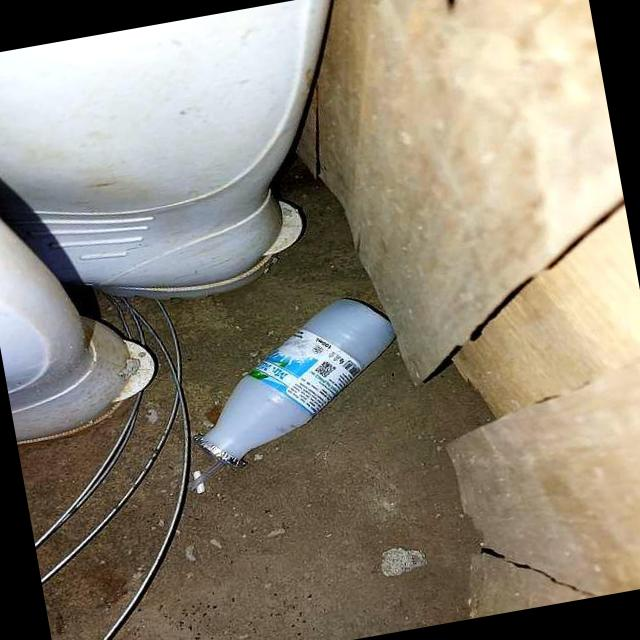Non-biodegradable: (174, 275, 421, 485)
